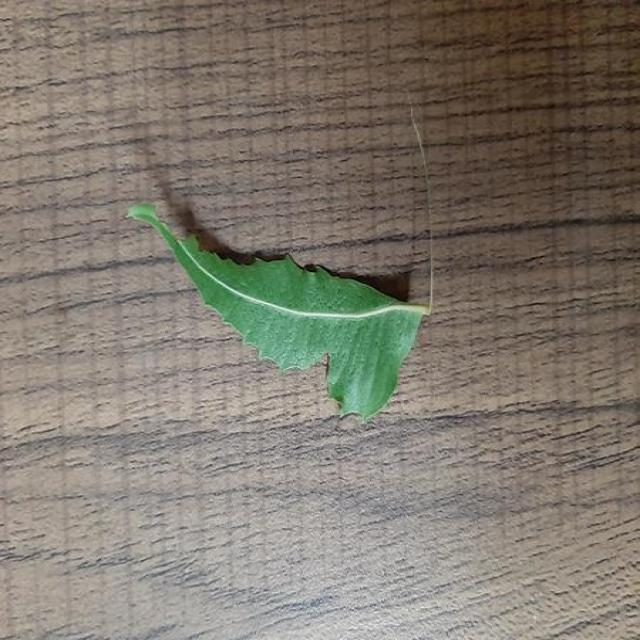neem: (128, 205, 427, 418)
